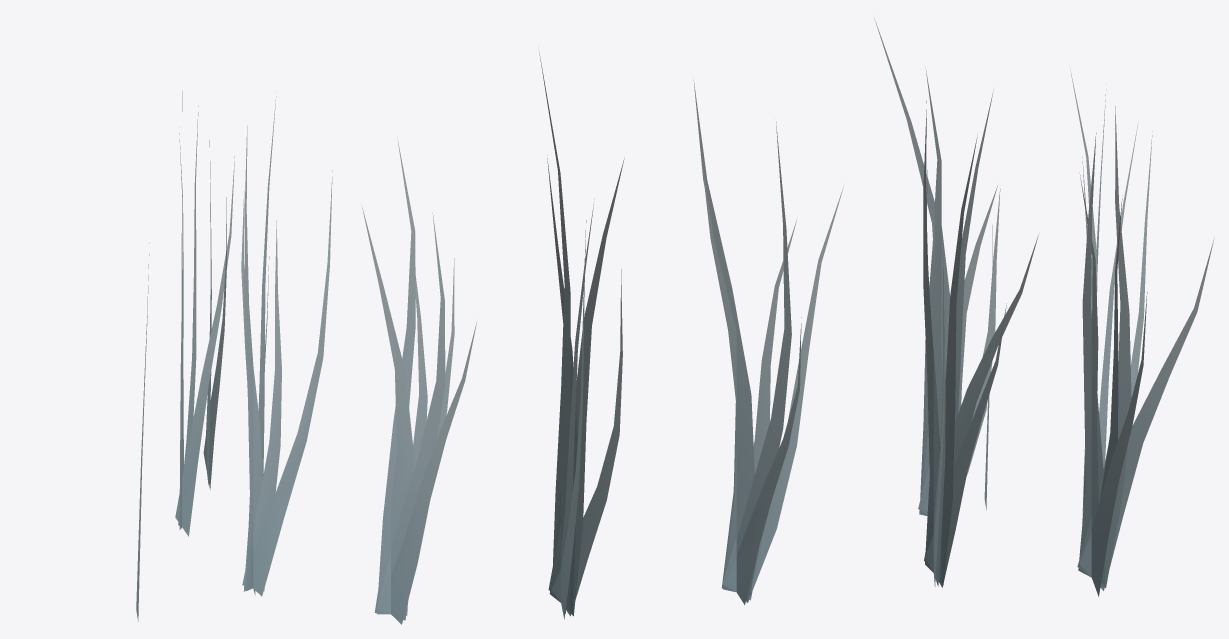
The model's file is mesh-plant-026-mint-fan_LOD1.glb.
3 views of the same model, side by side, from view 1: azimuth 30°, elevation 25°; view 2: azimuth 150°, elevation 25°; view 3: azimuth 270°, elevation 25° (orthographic). The views are drawn at different scales.
Visible parts, largest first — view 1: geometry_0; view 2: geometry_0; view 3: geometry_0.
Part boxes in pixels (<box>): geometry_0: <box>136,91,332,621</box>; geometry_0: <box>361,52,843,624</box>; geometry_0: <box>874,18,1214,596</box>.
Size of the model in its own units: 0.9747 by 1.58 by 0.9298.
